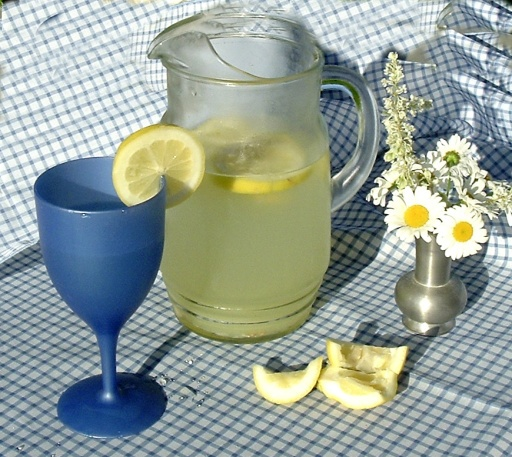background: (126, 52, 327, 293), (88, 81, 264, 242)
